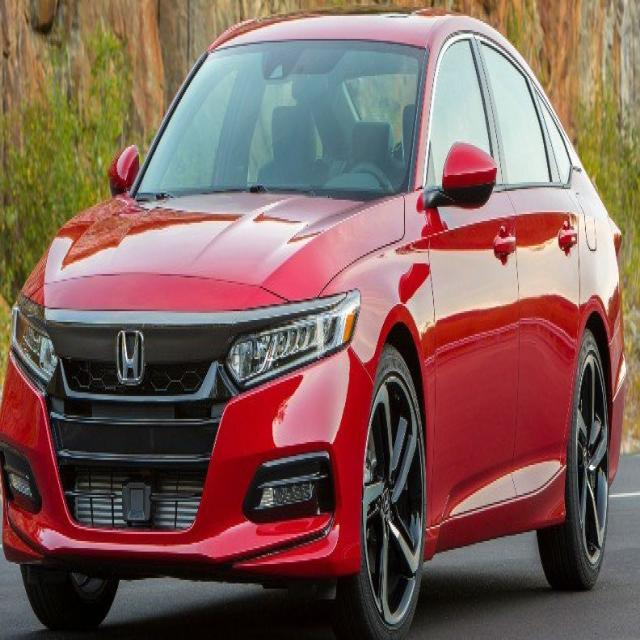red: (0, 14, 640, 624)
